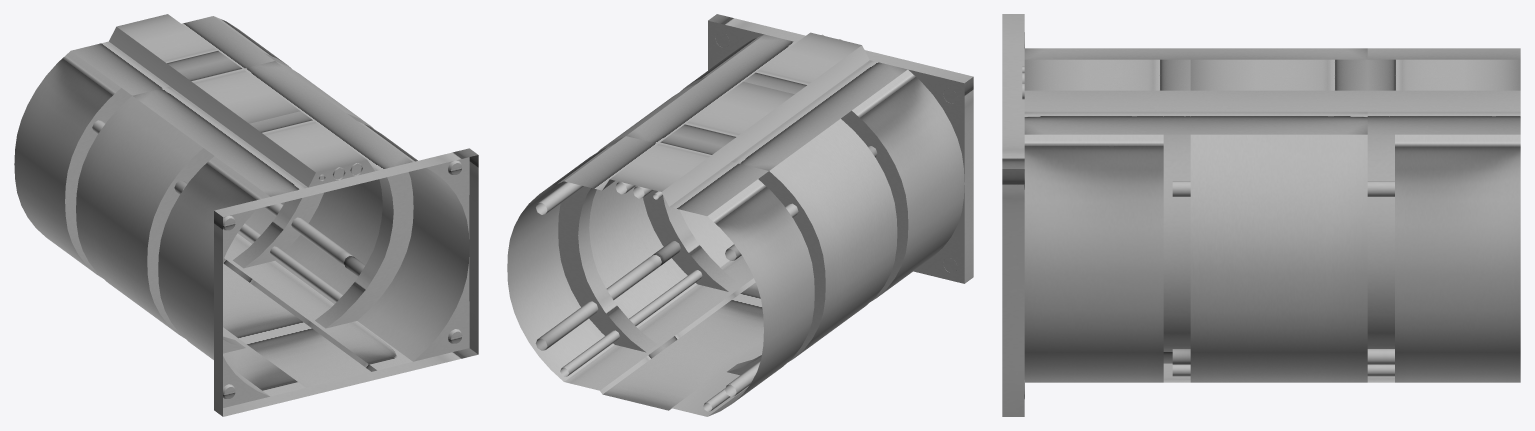
The model's file is corridorI.FBX.
3 views of the same model, side by side, from view 1: azimuth 30°, elevation 25°; view 2: azimuth 150°, elevation 25°; view 3: azimuth 270°, elevation 25° (orthographic). The views are drawn at different scales.
Parts seen in each view (by area): view 1: corridorI; view 2: corridorI; view 3: corridorI.
Boxes of the visible parts, x1=… form: corridorI: x1=14, y1=14, x2=478, y2=416; corridorI: x1=507, y1=14, x2=973, y2=416; corridorI: x1=1002, y1=14, x2=1520, y2=416.
Size of the model in its own units: 14.4 by 11.63 by 20.38.
